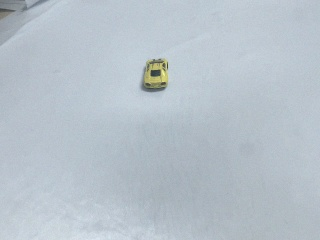toy_car: (142, 58, 168, 89)
